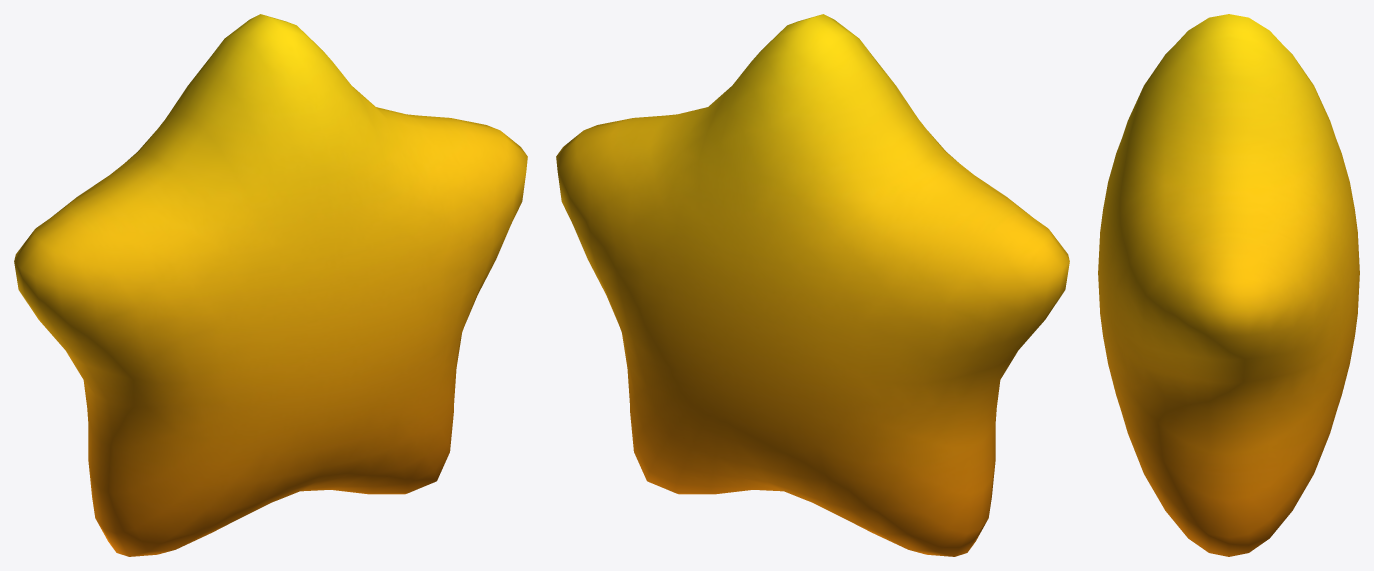
The model's file is Star.obj.
3 views of the same model, side by side, from view 1: azimuth 30°, elevation 25°; view 2: azimuth 150°, elevation 25°; view 3: azimuth 270°, elevation 25° (orthographic). The views are drawn at different scales.
Parts seen in each view (by area): view 1: Star; view 2: Star; view 3: Star.
Boxes of the visible parts, box(x1,y1,x2,y2) form: Star: box(14, 14, 527, 556); Star: box(556, 14, 1069, 556); Star: box(1098, 14, 1359, 556).
Bounding box in the file's own units: 72.04 × 69.17 × 34.49.
